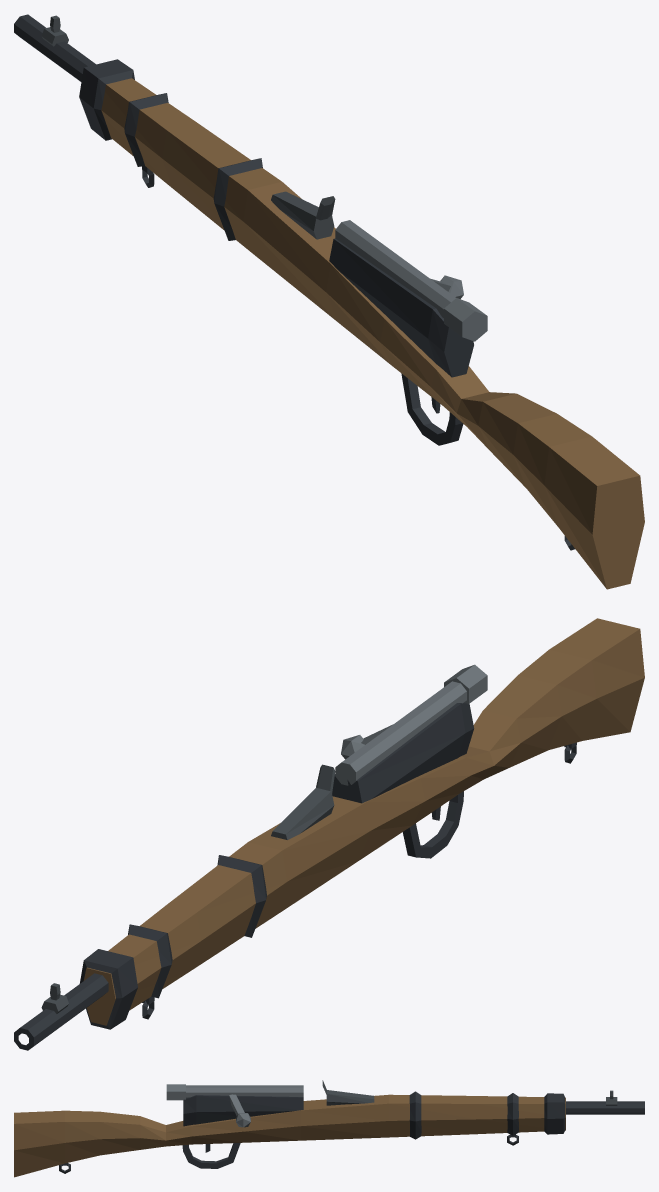
File: wpn_bolt_a.glb
3 views of the same model, one above another, from view 1: azimuth 30°, elevation 25°; view 2: azimuth 150°, elevation 25°; view 3: azimuth 270°, elevation 25° (orthographic). The views are drawn at different scales.
Parts seen in each view (by area): view 1: wpn_bolt_a_LOD0; view 2: wpn_bolt_a_LOD0; view 3: wpn_bolt_a_LOD0.
Boxes of the visible parts, <box> form: wpn_bolt_a_LOD0: <box>14,14,644,589</box>; wpn_bolt_a_LOD0: <box>14,618,644,1050</box>; wpn_bolt_a_LOD0: <box>14,1080,644,1177</box>.
Bounding box in the file's own units: 0.0839 × 0.1656 × 1.01.
